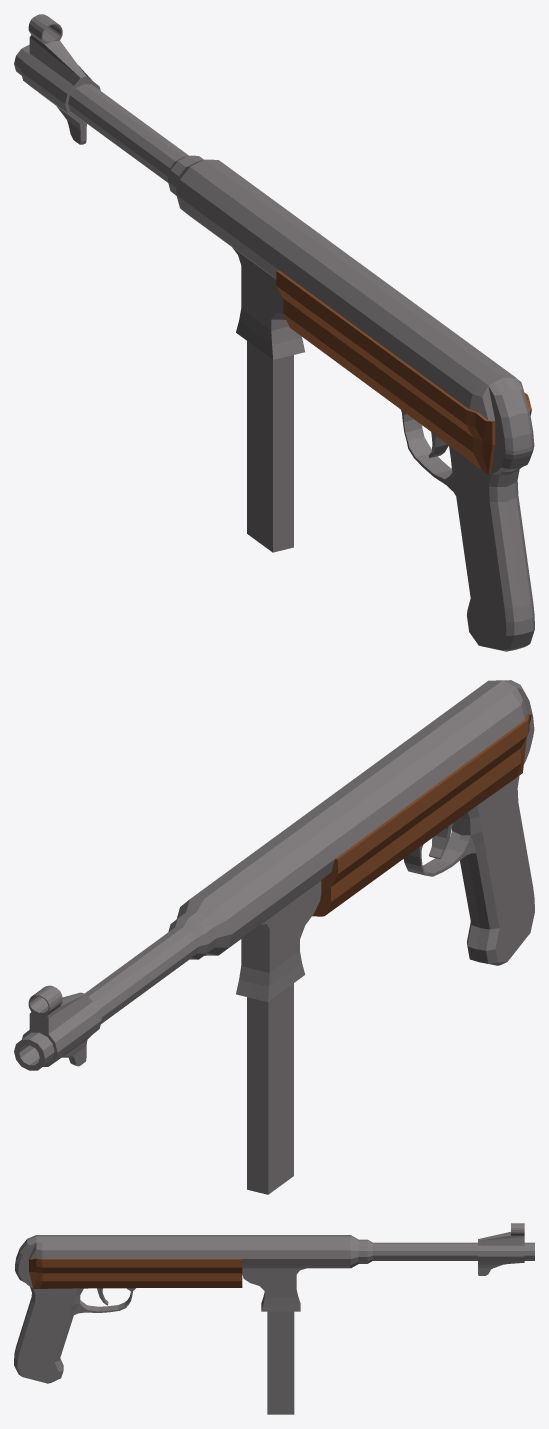
The model's file is MP40_seperated.fbx.
3 renders of one model, top to bottom at view 1: azimuth 30°, elevation 25°; view 2: azimuth 150°, elevation 25°; view 3: azimuth 270°, elevation 25°, orthographic. The views are drawn at different scales.
Visible parts, largest first — view 1: Teil2, Teil4, Teil1, Teil3, Teil5; view 2: Teil2, Teil4, Teil1, Teil3, Teil5; view 3: Teil2, Teil3, Teil1, Teil4, Teil5.
Boxes of the visible parts, <box> form: Teil2: <box>168,155,534,474</box>; Teil4: <box>232,247,304,552</box>; Teil1: <box>401,410,534,651</box>; Teil3: <box>276,270,531,474</box>; Teil5: <box>14,14,188,182</box>; Teil2: <box>168,680,534,959</box>; Teil4: <box>236,881,321,1194</box>; Teil1: <box>403,775,534,965</box>; Teil3: <box>312,714,531,916</box>; Teil5: <box>14,927,198,1070</box>; Teil2: <box>15,1235,372,1287</box>; Teil3: <box>29,1258,242,1305</box>; Teil1: <box>14,1287,135,1383</box>; Teil4: <box>242,1268,306,1414</box>; Teil5: <box>372,1223,534,1275</box>.
Bounding box in the file's own units: 148 × 815 × 2047.
